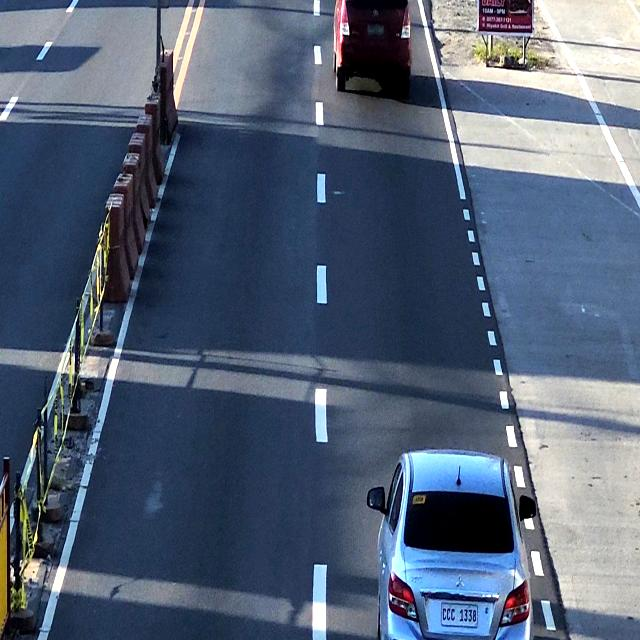Car: (380, 454, 529, 640), (329, 0, 414, 87)
License-Plate: (438, 600, 481, 626)
